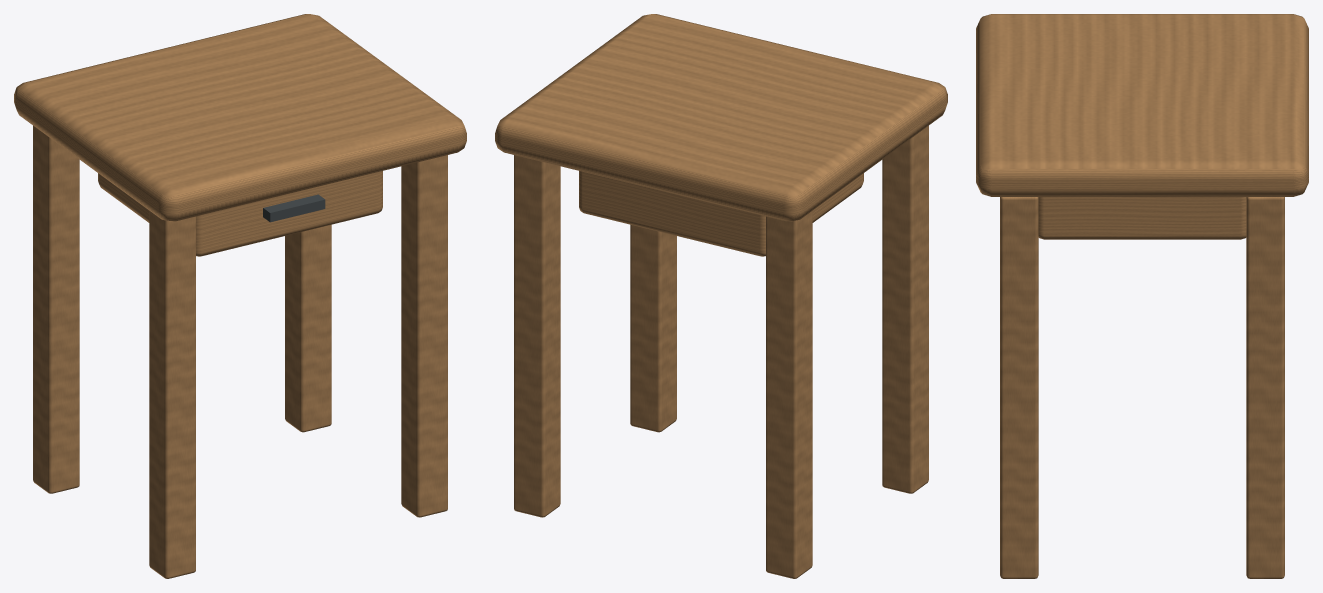
File: night_table_campus-133a84412399.glb
3 renders of one model, left to right at view 1: azimuth 30°, elevation 25°; view 2: azimuth 150°, elevation 25°; view 3: azimuth 270°, elevation 25°, orthographic. The views are drawn at different scales.
Parts seen in each view (by area): view 1: surface_oak, surface_graphite; view 2: surface_oak; view 3: surface_oak.
Boxes of the visible parts, x1,y1,x2,y2 form: surface_oak: [14, 14, 466, 578]; surface_graphite: [263, 194, 325, 222]; surface_oak: [495, 14, 947, 578]; surface_oak: [976, 14, 1308, 578].
Size of the model in its own units: 0.4136 by 0.51 by 0.3666.
2 materials, 1 textured.
